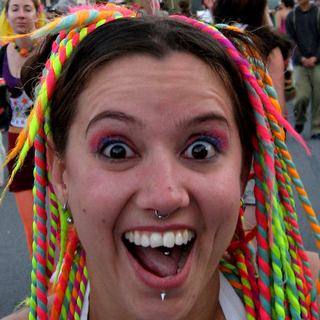eye: (84, 133, 143, 169), (173, 131, 226, 167)
